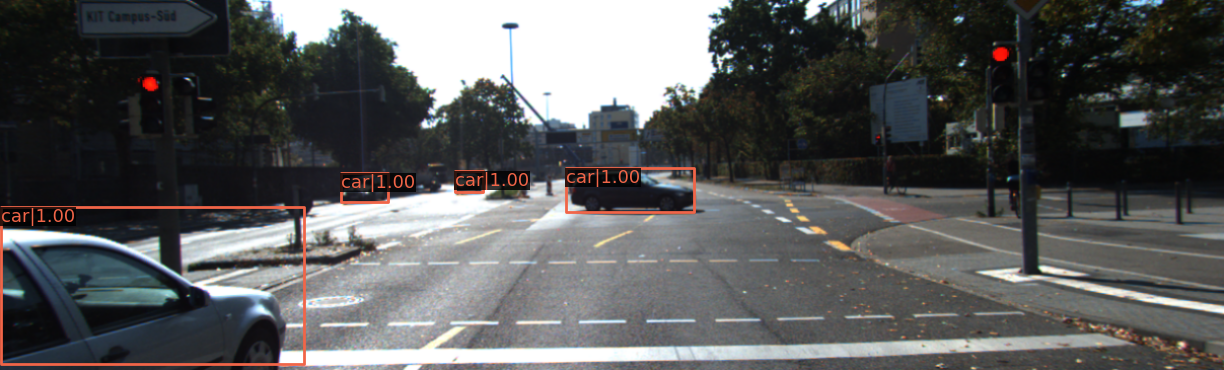car: (1, 202, 304, 370), (567, 167, 700, 212), (341, 175, 388, 202)
